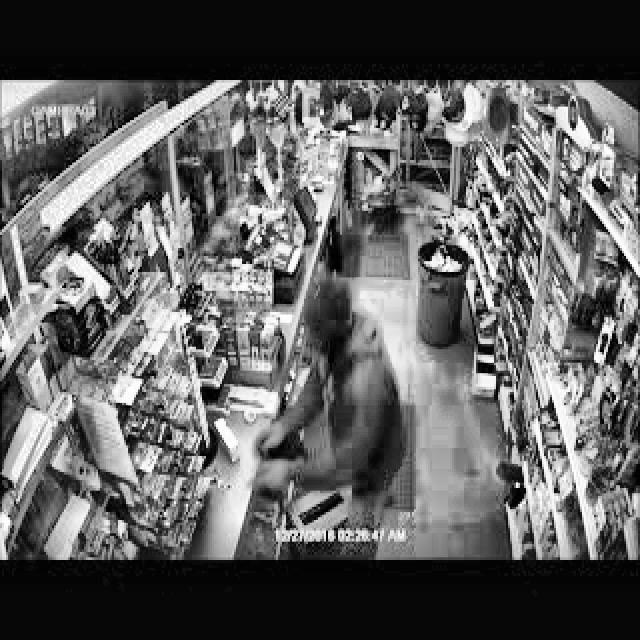burglary: (240, 273, 410, 528)
